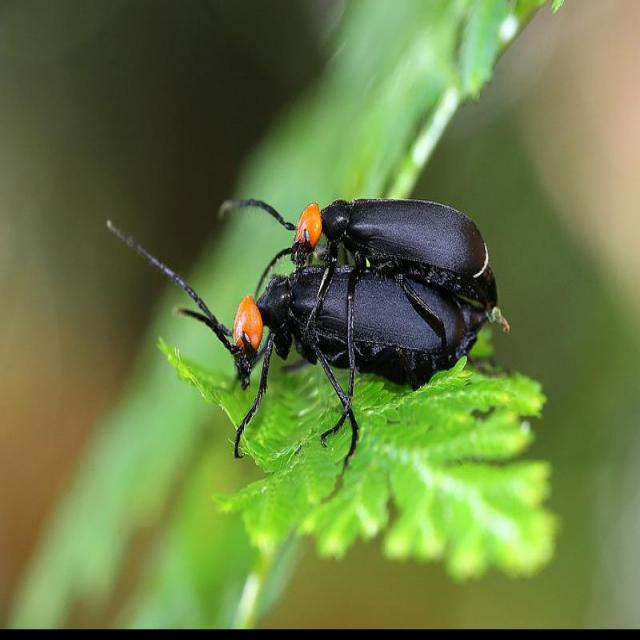BlisterBeetle-Adult-: (154, 252, 508, 464), (218, 161, 517, 302)
